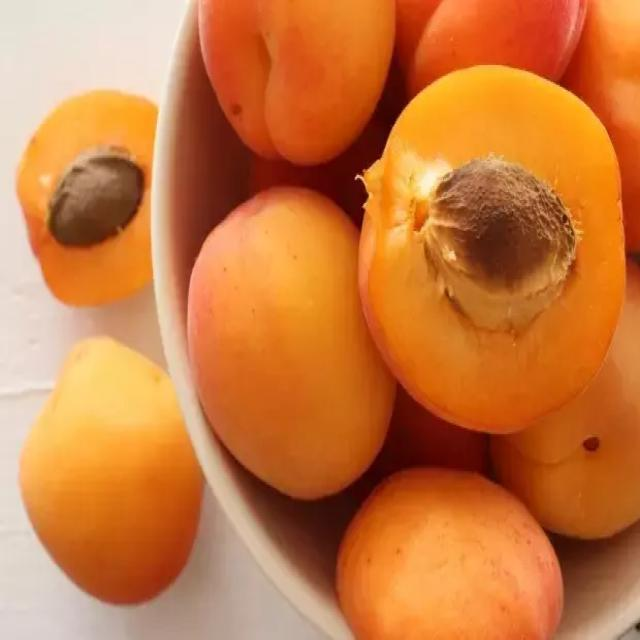Cekirdek: (419, 157, 578, 329)
Kayisi: (188, 188, 395, 497)
